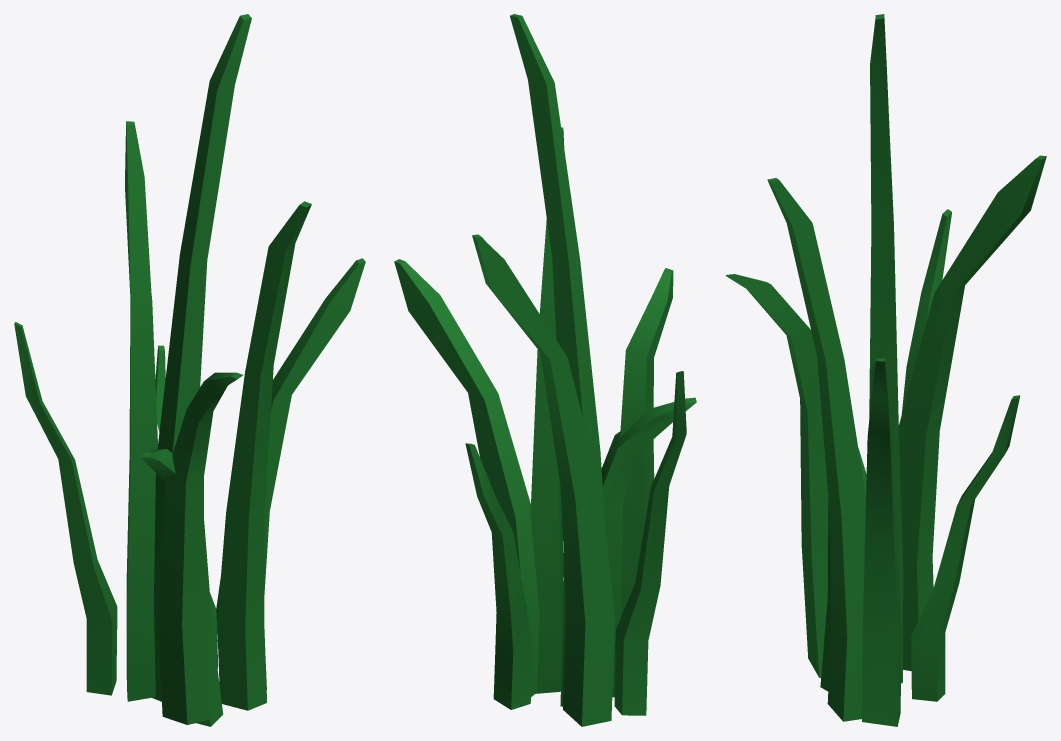
Rendered from Grass6.fbx.
3 views of the same model, side by side, from view 1: azimuth 30°, elevation 25°; view 2: azimuth 150°, elevation 25°; view 3: azimuth 270°, elevation 25° (orthographic). The views are drawn at different scales.
Parts seen in each view (by area): view 1: GrassLight3; view 2: GrassLight3; view 3: GrassLight3.
Boxes of the visible parts, x1=… form: GrassLight3: x1=14, y1=14, x2=365, y2=726; GrassLight3: x1=394, y1=14, x2=696, y2=726; GrassLight3: x1=725, y1=14, x2=1046, y2=726.
Bounding box in the file's own units: 1.12 × 2.26 × 0.9357.
